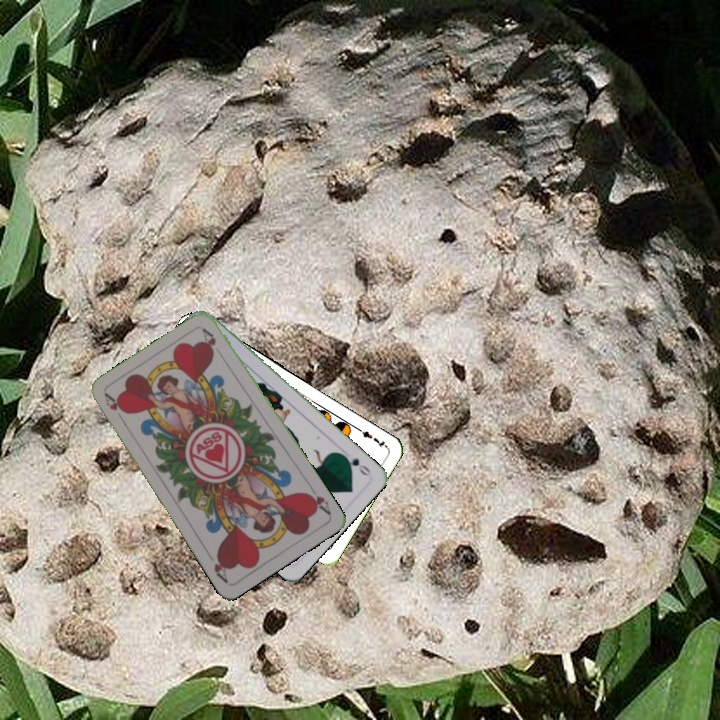E7: (352, 423, 389, 451)
GO: (338, 450, 373, 478)
HA: (101, 390, 129, 426), (301, 488, 334, 518)
